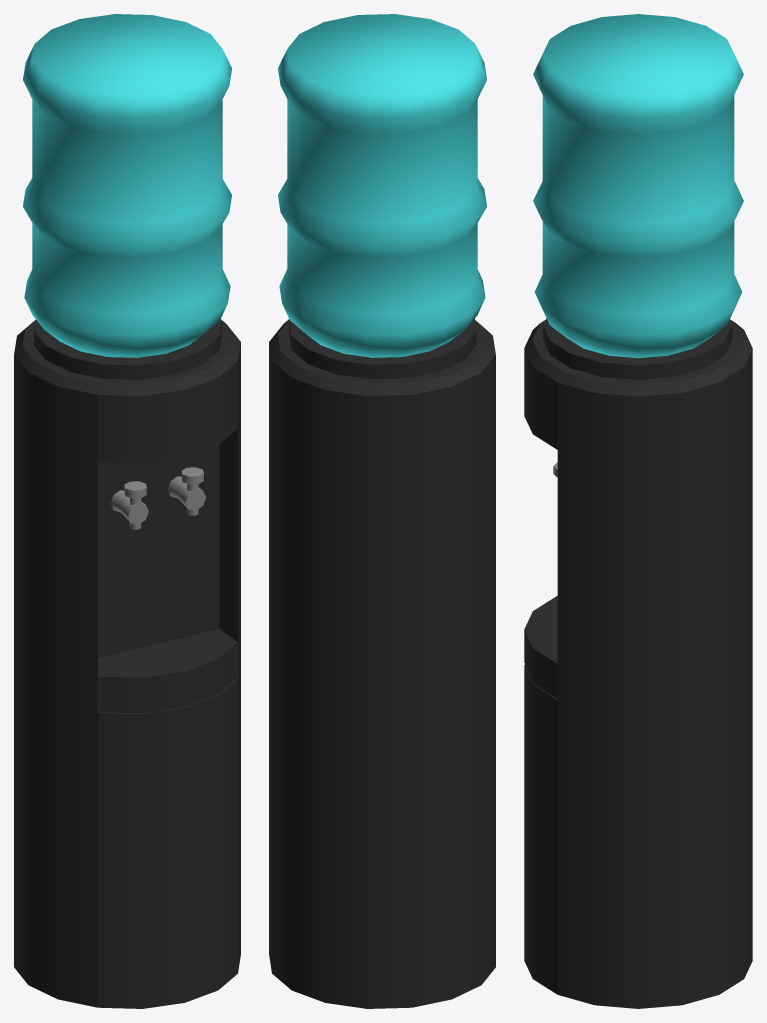
The model's file is WaterDispenserNew.fbx.
The picture shows the model from 3 angles, left to right: view 1: azimuth 30°, elevation 25°; view 2: azimuth 150°, elevation 25°; view 3: azimuth 270°, elevation 25°; orthographic projection.
Parts seen in each view (by area): view 1: Cylinder, Cylinder.002, Cylinder.001; view 2: Cylinder, Cylinder.002; view 3: Cylinder, Cylinder.002.
Part boxes in pixels (x1=…): Cylinder: x1=14, y1=319, x2=240, y2=1008; Cylinder.002: x1=23, y1=14, x2=231, y2=357; Cylinder.001: x1=110, y1=467, x2=205, y2=529; Cylinder: x1=269, y1=318, x2=495, y2=1008; Cylinder.002: x1=278, y1=14, x2=486, y2=357; Cylinder: x1=524, y1=318, x2=752, y2=1008; Cylinder.002: x1=533, y1=14, x2=743, y2=358.
Size of the model in its own units: 92.13 by 403 by 92.13.
